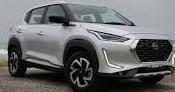Crossovers: (9, 4, 174, 90)
